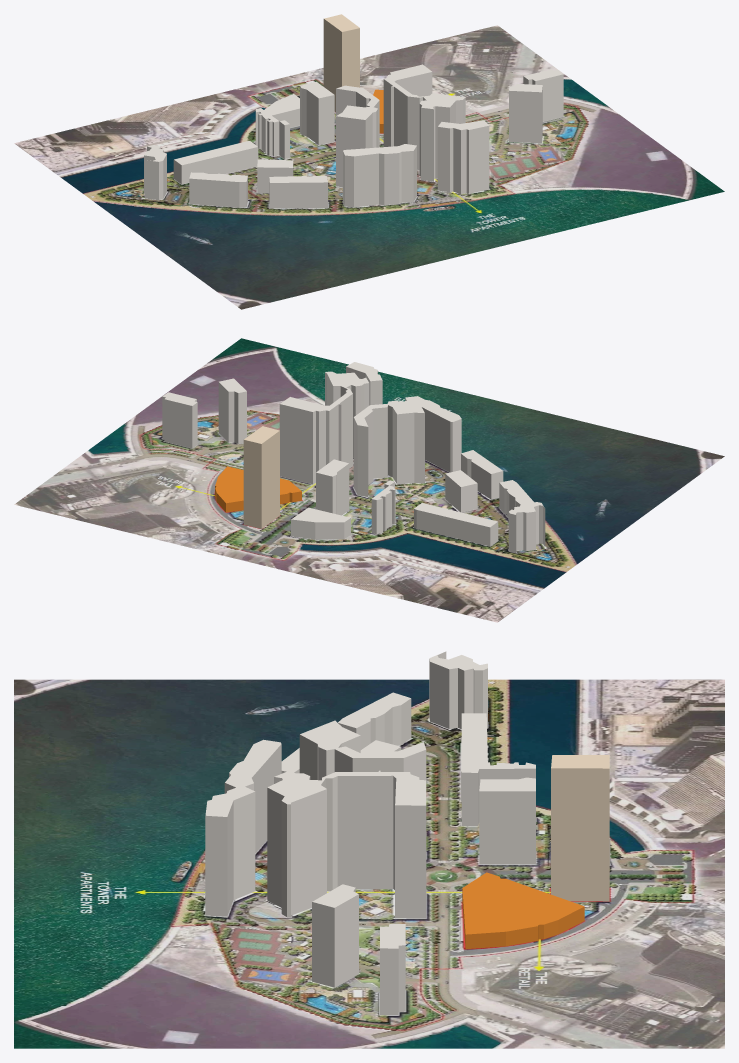
Rendered from peninsula-community.glb.
3 renders of one model, top to bottom at view 1: azimuth 30°, elevation 25°; view 2: azimuth 150°, elevation 25°; view 3: azimuth 270°, elevation 25°, orthographic. The views are drawn at different scales.
Visible parts, largest first — view 1: Master plan, Building 3, Building 2, Building 1, Building 4, Building 16, Building 8, Building 13, Building 10, Building 7, Building 5, Building 11 (+4 smaller); view 2: Master plan, Building 3, Building 4, Building 16, Building 2, Building 8, Building 14, Building 13, Building 9, Building 10, Building 12, The Plaza (+5 smaller); view 3: Master plan, Building 3, Building 16, The Plaza, Building 1, Building 10, Building 4, Building 13, Building 9, Building 2, Building 7, Building 14 (+2 smaller).
Part boxes in pixels (x1,y1,x2,y2): Master plan: [14, 25, 724, 309]; Building 3: [383, 64, 465, 181]; Building 2: [343, 144, 416, 207]; Building 1: [437, 120, 489, 193]; Building 4: [336, 85, 379, 187]; Building 16: [323, 14, 359, 112]; Building 8: [173, 141, 258, 184]; Building 13: [509, 83, 542, 143]; Building 10: [300, 81, 334, 144]; Building 7: [189, 172, 247, 207]; Building 5: [269, 176, 327, 208]; Building 11: [255, 108, 289, 159]; Master plan: [14, 338, 724, 622]; Building 3: [279, 371, 369, 484]; Building 4: [353, 400, 424, 496]; Building 16: [243, 426, 279, 528]; Building 2: [405, 396, 461, 472]; Building 8: [414, 503, 498, 546]; Building 14: [162, 392, 197, 448]; Building 13: [218, 378, 246, 443]; Building 9: [508, 502, 545, 552]; Building 10: [316, 459, 349, 515]; Building 12: [291, 507, 350, 539]; The Plaza: [215, 466, 301, 512]; Master plan: [14, 679, 724, 1048]; Building 3: [267, 770, 426, 918]; Building 16: [551, 755, 609, 901]; The Plaza: [462, 872, 584, 949]; Building 1: [205, 785, 255, 916]; Building 10: [479, 777, 535, 864]; Building 4: [299, 720, 426, 780]; Building 13: [312, 884, 358, 987]; Building 9: [429, 651, 487, 728]; Building 2: [224, 739, 281, 852]; Building 7: [338, 692, 411, 749]; Building 14: [380, 924, 405, 1014].
Size of the model in its own units: 1190 by 200 by 969.
Materials: 4 (1 with a texture image).
